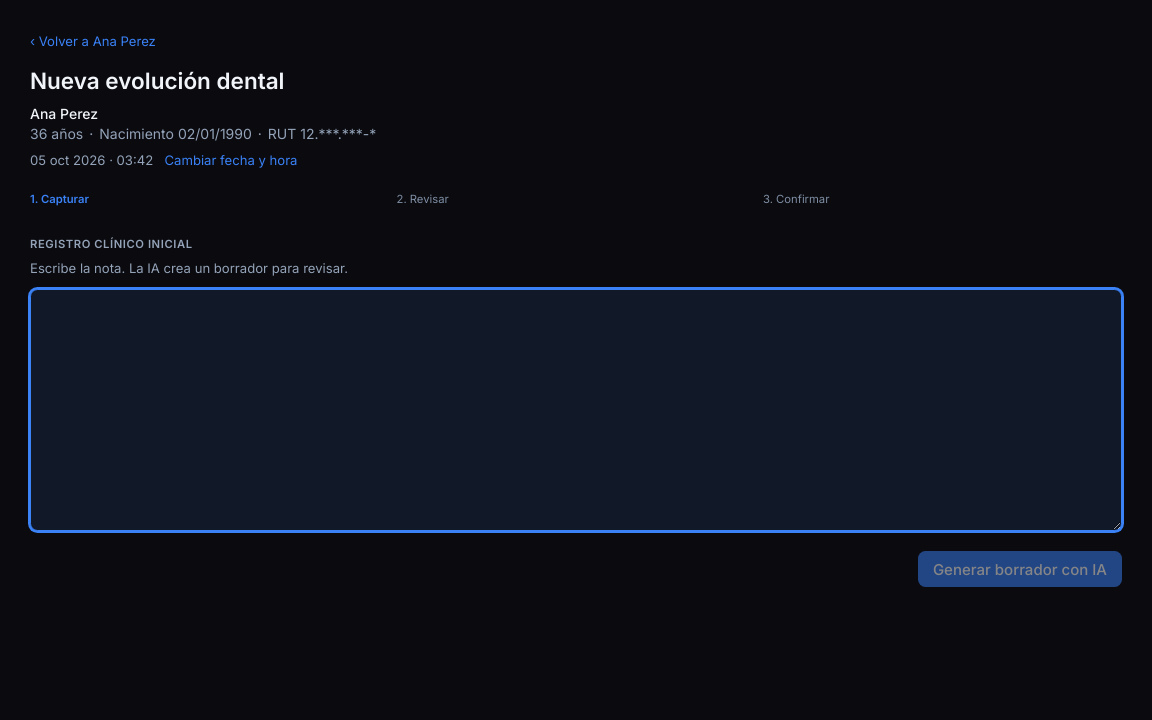
Test: NewEvolution generation states › renders insufficient content without empty clinical fields
Expected: the heading "Nueva evolución dental" is shown, 30,67 -> 284,94
In the text box named "Nota clínica": (576, 410) 30,289 -> 1122,531, type "Paciente refiere sensibilidad al frío."
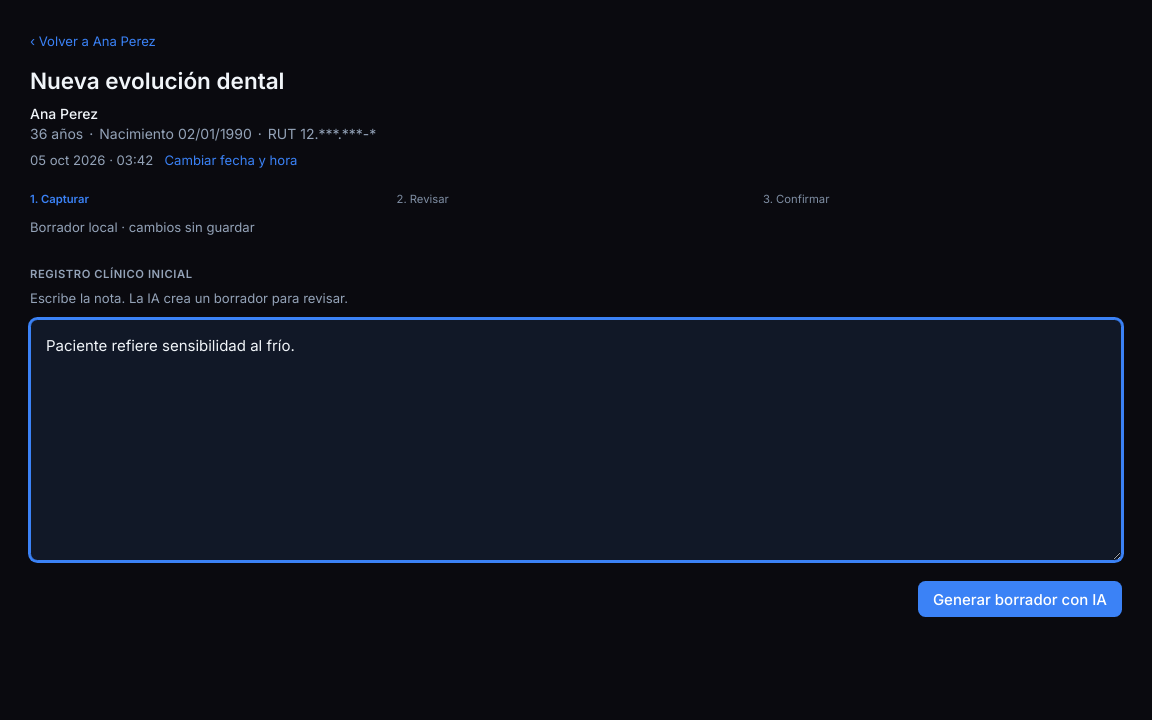
Click the button "Generar borrador con IA": (1020, 599) 918,581 -> 1122,617
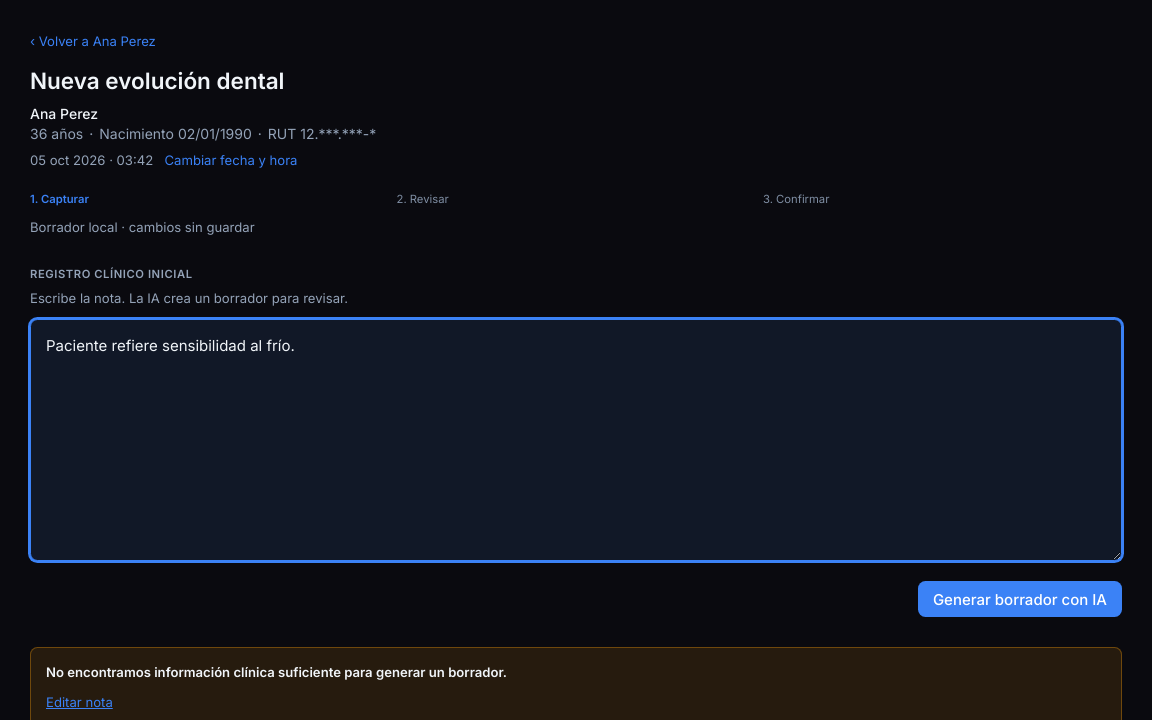
Expected: the heading "No encontramos información clínica suficiente para generar un borrador." is shown, 46,664 -> 507,680
Expected: the button "Editar nota" is shown, 46,693 -> 113,712
